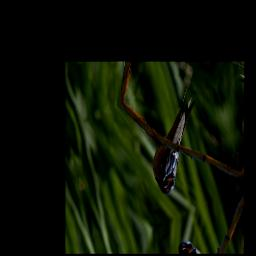Swallow: (134, 79, 217, 198)
